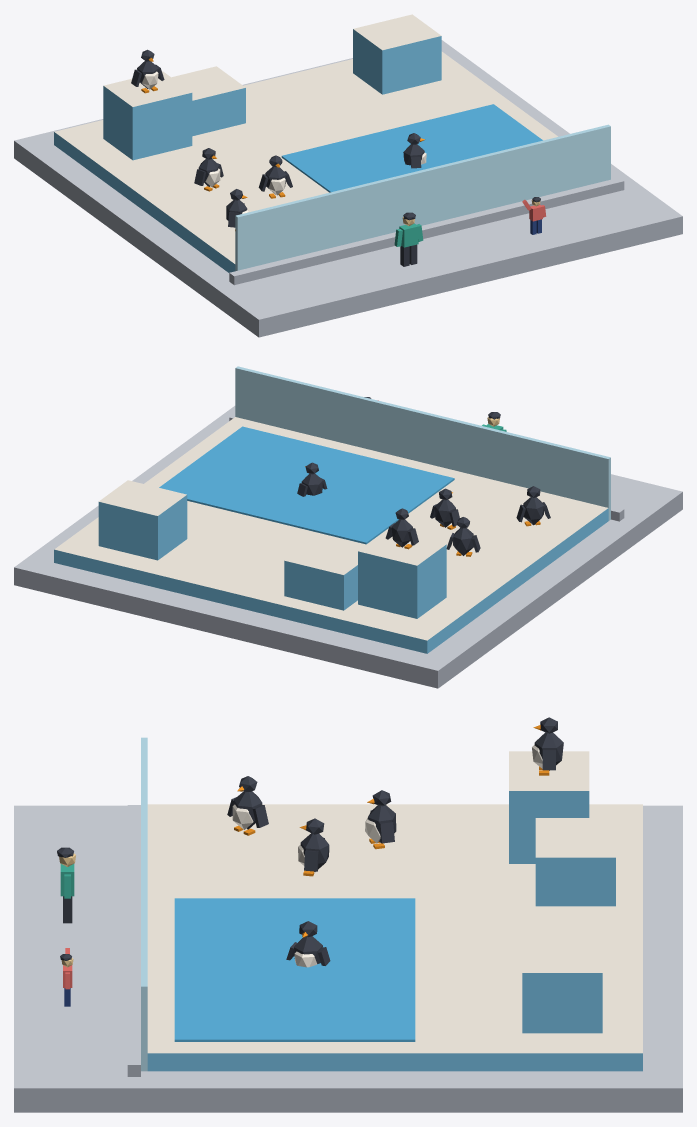
File: zoo_penguin.glb
The picture shows the model from 3 angles, top to bottom: view 1: azimuth 30°, elevation 25°; view 2: azimuth 150°, elevation 25°; view 3: azimuth 270°, elevation 25°; orthographic projection. The views are drawn at different scales.
Parts seen in each view (by area): view 1: zoo_penguin; view 2: zoo_penguin; view 3: zoo_penguin.
Boxes of the visible parts, box(x1,y1,x2,y2) form: zoo_penguin: box(14, 14, 682, 337); zoo_penguin: box(14, 366, 682, 688); zoo_penguin: box(14, 717, 682, 1112).
Bounding box in the file's own units: 1 × 0.279 × 1.
